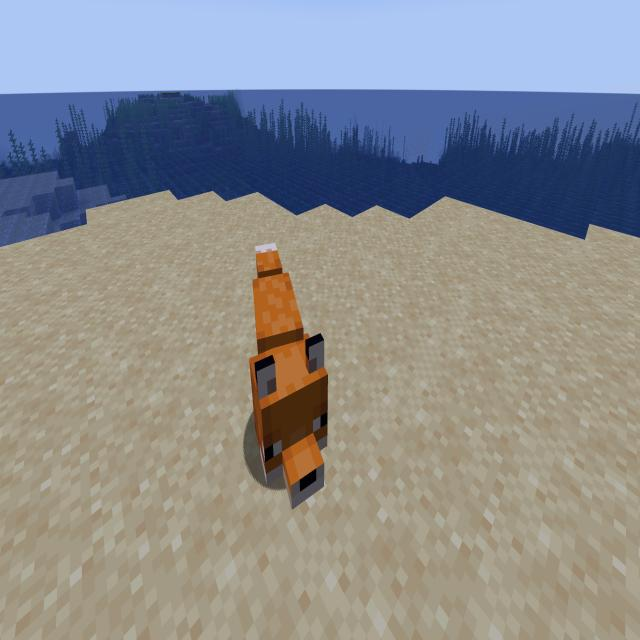Fox: (236, 235, 334, 510)
